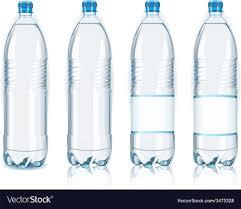Plastic bottle: (129, 3, 181, 170), (64, 2, 115, 169), (192, 2, 239, 174), (3, 0, 50, 170)
